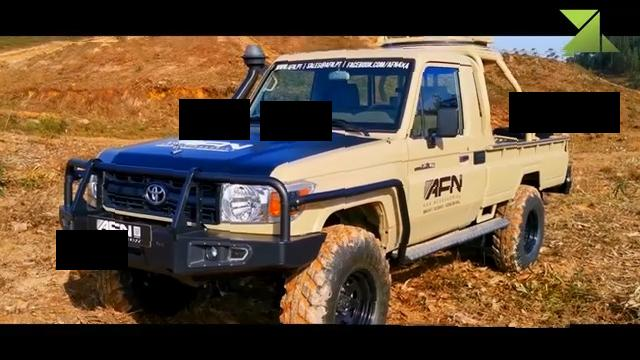MIL_HMMWV: (59, 44, 574, 326)
